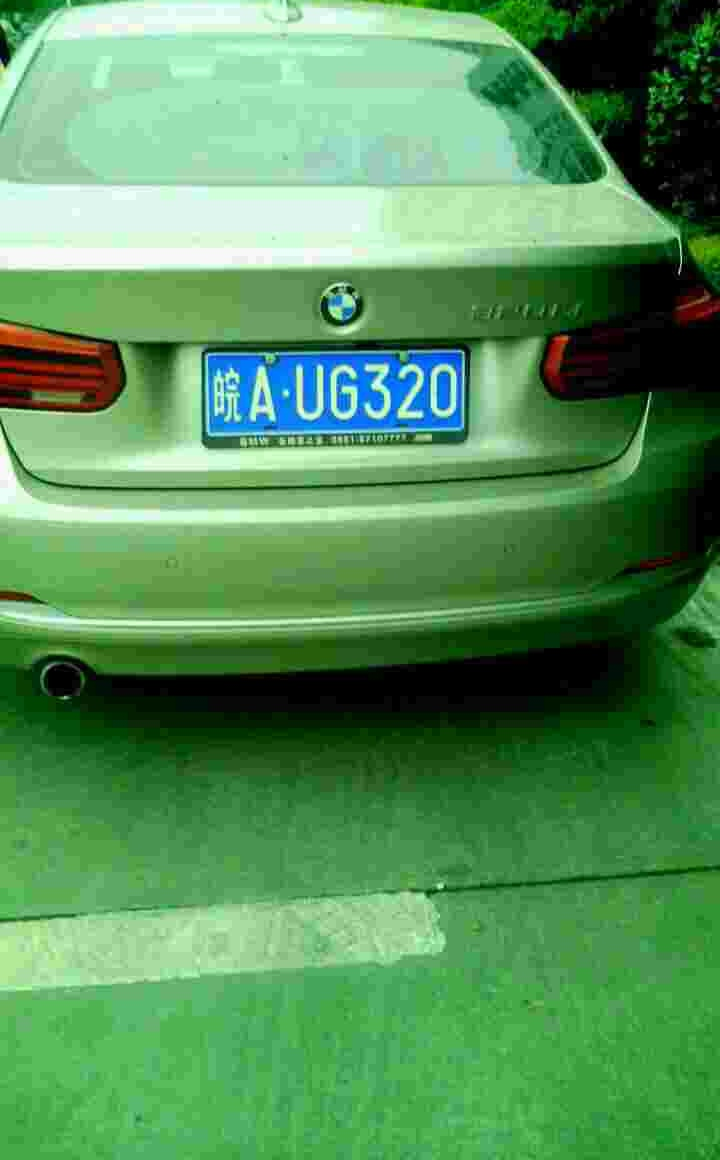license_plate: (219, 358, 458, 427)
